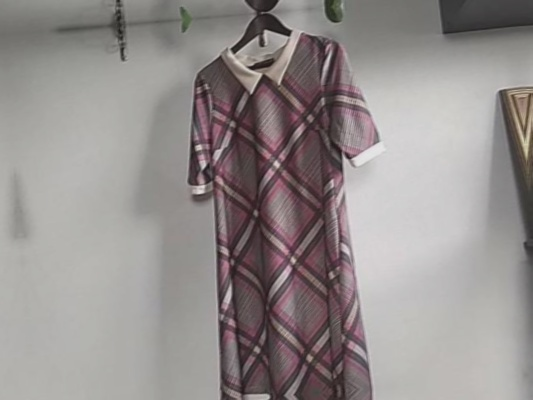Dress: (168, 10, 418, 400), (135, 0, 385, 13), (200, 388, 450, 400)
